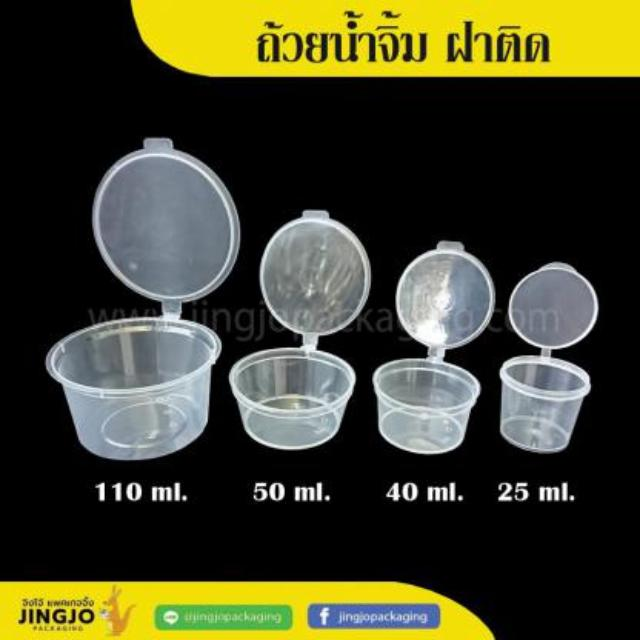plastic_box: (43, 136, 241, 458), (230, 208, 370, 448), (373, 238, 497, 458), (498, 264, 598, 452)
